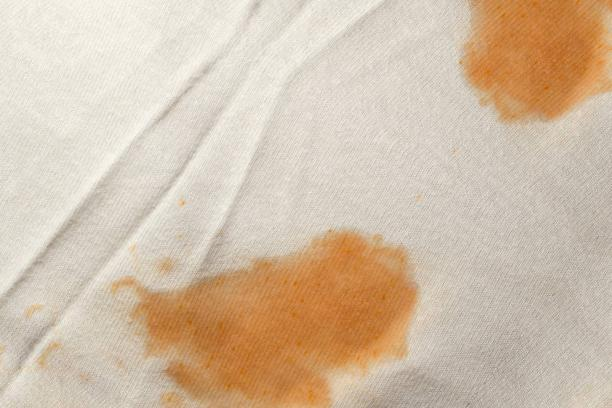stain: (110, 225, 431, 408), (455, 1, 612, 135), (35, 340, 72, 374), (20, 297, 51, 325)
